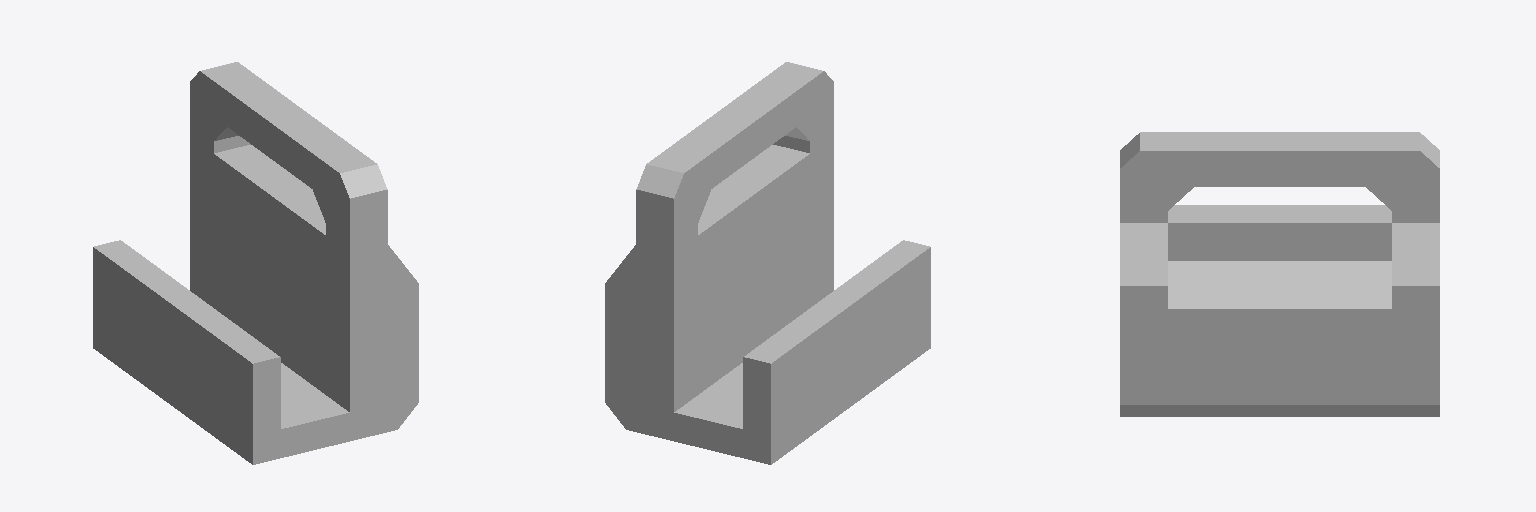
Rendered from obs0R.obj.
3 views of the same model, side by side, from view 1: azimuth 30°, elevation 25°; view 2: azimuth 150°, elevation 25°; view 3: azimuth 270°, elevation 25° (orthographic).
Parts seen in each view (by area): view 1: ob0_Plane.004; view 2: ob0_Plane.004; view 3: ob0_Plane.004.
Boxes of the visible parts, x1=… form: ob0_Plane.004: x1=93, y1=62, x2=418, y2=464; ob0_Plane.004: x1=605, y1=62, x2=930, y2=464; ob0_Plane.004: x1=1120, y1=132, x2=1439, y2=416.
Bounding box in the file's own units: 1.2 × 1.8 × 2.